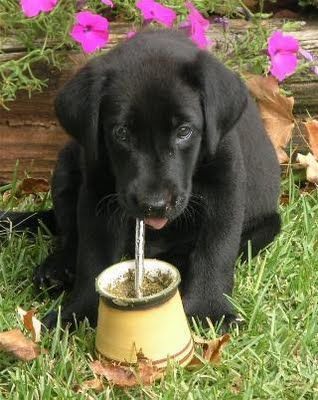madera: (89, 252, 198, 370)
mate: (91, 254, 200, 372)
